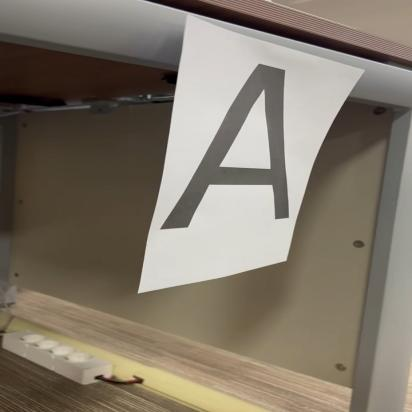seat: (154, 54, 304, 260)
